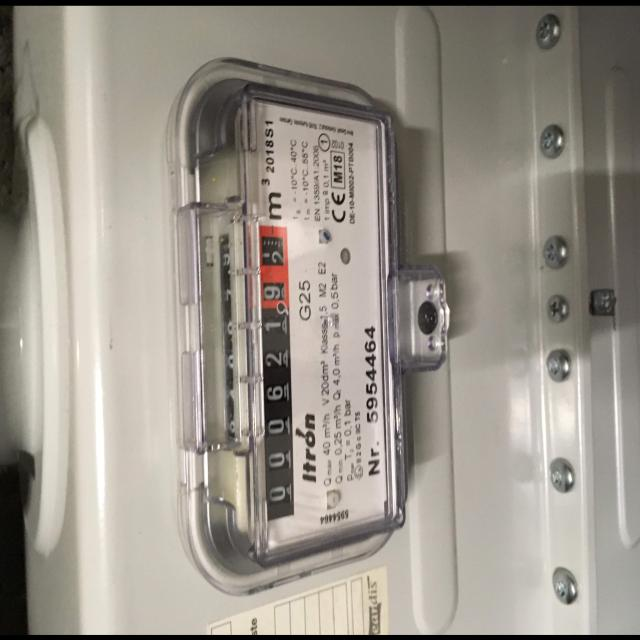gaz_meter: (254, 97, 397, 561)
indication: (259, 218, 296, 522)
